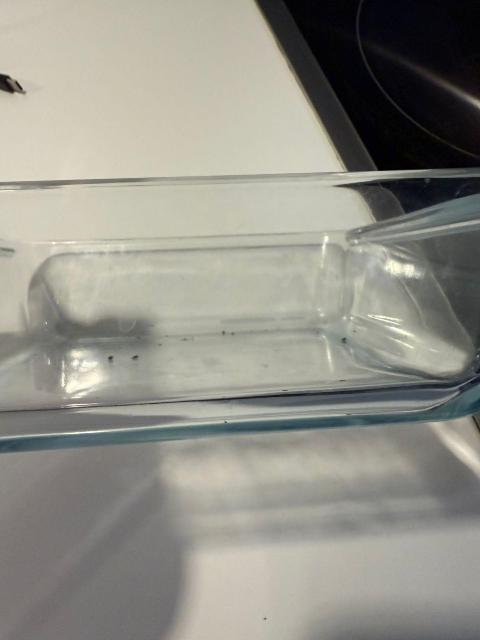Cam: (3, 168, 480, 460)
